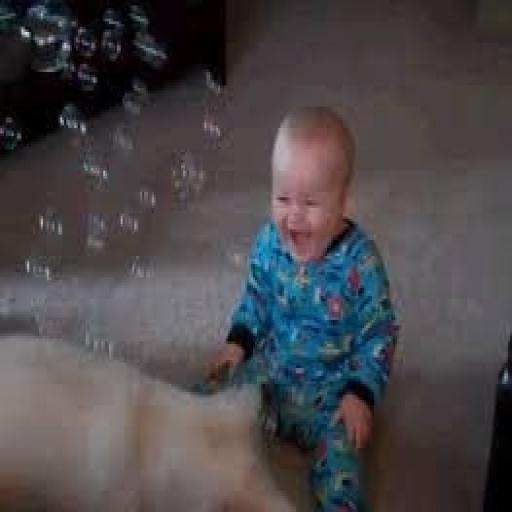laughing: (194, 91, 408, 509)
